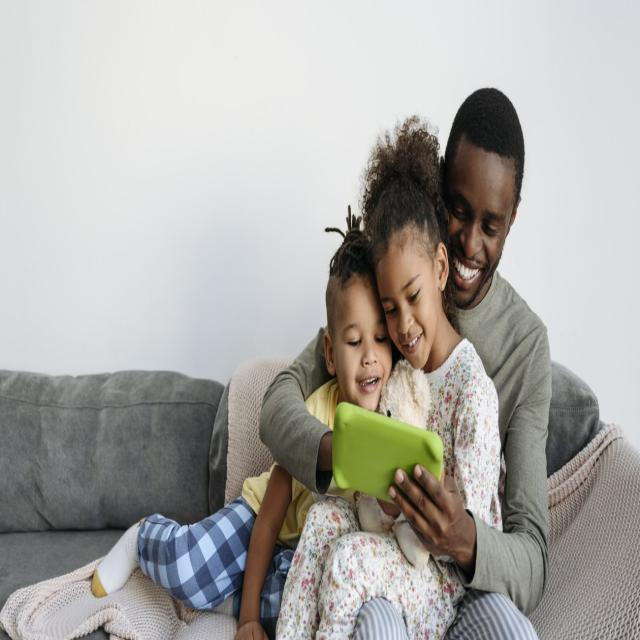adult: (256, 84, 551, 640)
child: (90, 208, 394, 620), (274, 119, 503, 640)
